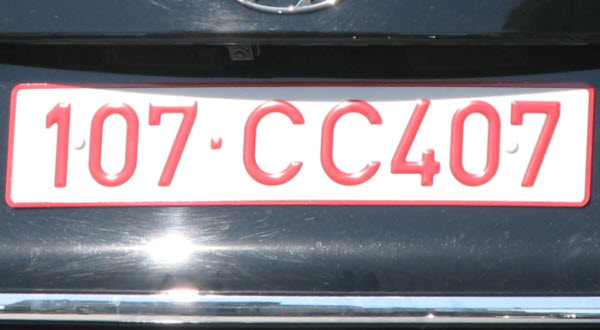license_plate: (6, 79, 593, 208)
